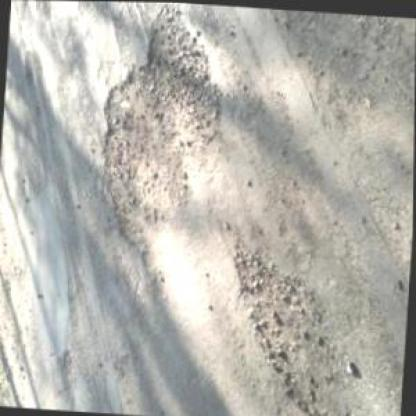pothole: (90, 1, 234, 262)
